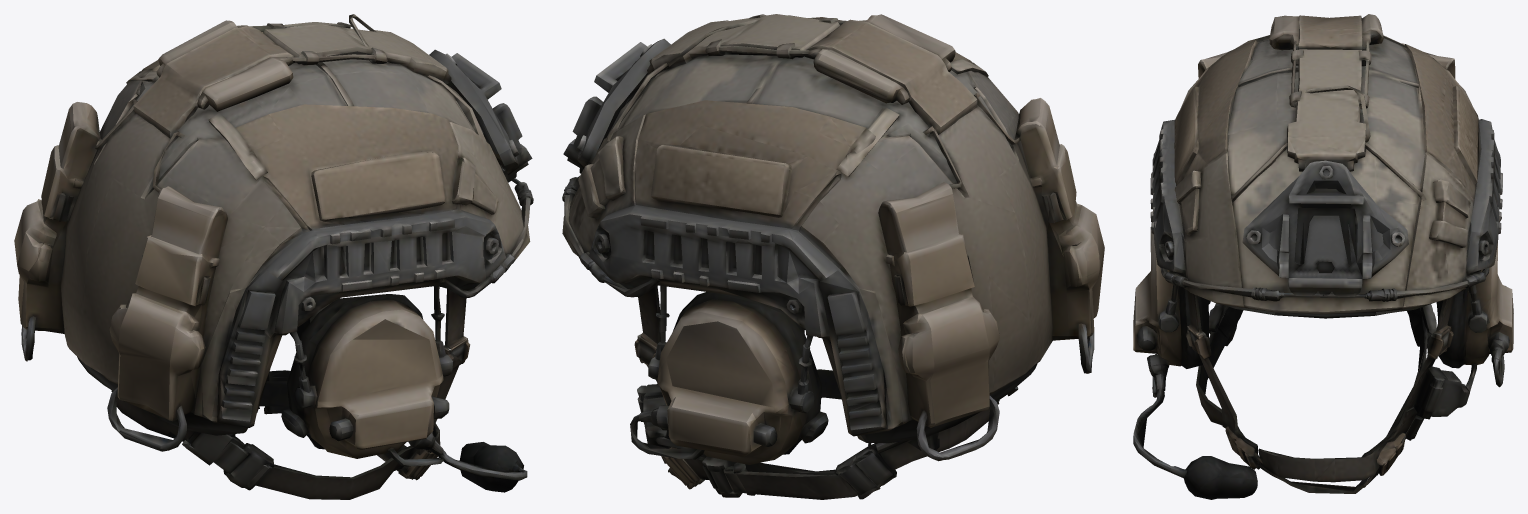
Rendered from helmet.glb.
3 renders of one model, left to right at view 1: azimuth 30°, elevation 25°; view 2: azimuth 150°, elevation 25°; view 3: azimuth 270°, elevation 25°, orthographic. The views are drawn at different scales.
Parts seen in each view (by area): view 1: Object_4; view 2: Object_4; view 3: Object_4.
Boxes of the visible parts, x1,y1,x2,y2 form: Object_4: (14,14,533,499); Object_4: (562,14,1104,499); Object_4: (1133,14,1513,499).
Bounding box in the file's own units: 0.998 × 0.9907 × 0.8457.
1 material, 1 textured.
